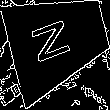N_E: (34, 14, 83, 68)
